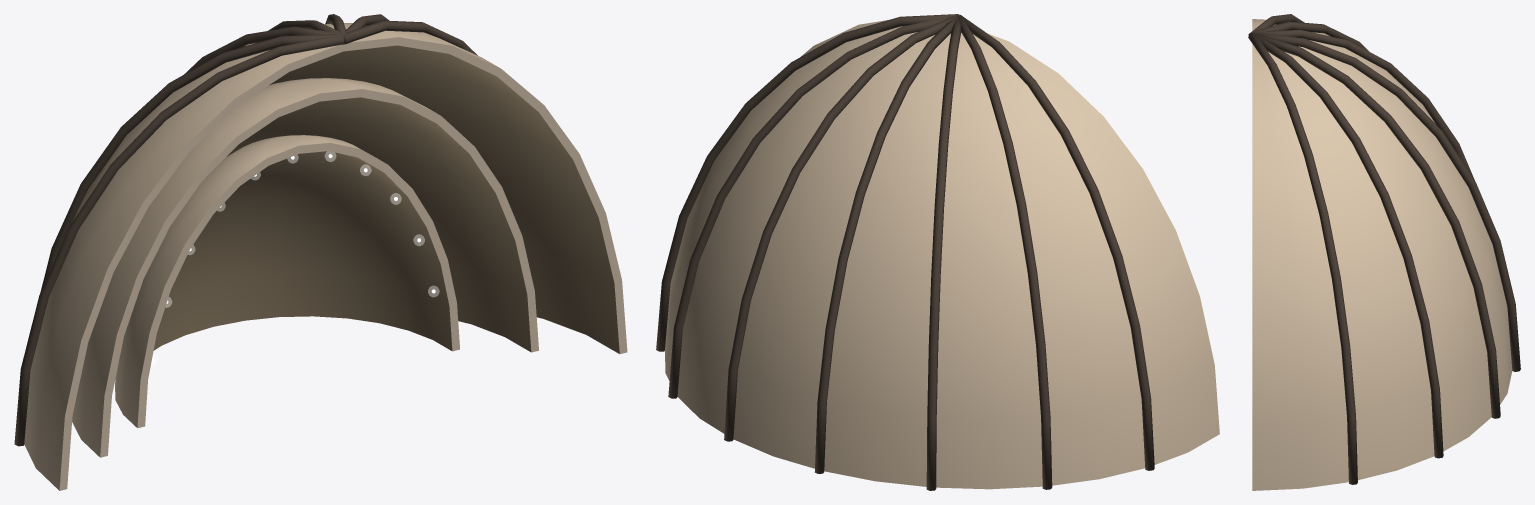
File: city_hall_shell.glb
The picture shows the model from 3 angles, left to right: view 1: azimuth 30°, elevation 25°; view 2: azimuth 150°, elevation 25°; view 3: azimuth 270°, elevation 25°; orthographic projection. The views are drawn at different scales.
Parts seen in each view (by area): view 1: CityHallShell_Shell2Inner, CityHallShell_Shell0Inner, CityHallShell_Shell1Inner, CityHallShell_Shell0, CityHallShell_Shell1, CityHallShell_Shell0Rim, CityHallShell_Shell2, CityHallShell_Shell1Rim, CityHallShell_Rib7, CityHallShell_Shell2Rim, CityHallShell_Rib6, CityHallShell_Rib1 (+1 smaller); view 2: CityHallShell_Shell0, CityHallShell_Rib7, CityHallShell_Rib3, CityHallShell_Rib6, CityHallShell_Rib4, CityHallShell_Rib5, CityHallShell_Rib2, CityHallShell_Rib1; view 3: CityHallShell_Shell0, CityHallShell_Rib3, CityHallShell_Rib2, CityHallShell_Rib1, CityHallShell_Rib4, CityHallShell_Rib5, CityHallShell_Rib6, CityHallShell_Rib7.
Part boxes in pixels (left/top/right/bottom): CityHallShell_Shell2Inner: left=153, top=151, right=452, bottom=350; CityHallShell_Shell0Inner: left=270, top=45, right=619, bottom=353; CityHallShell_Shell1Inner: left=226, top=97, right=531, bottom=351; CityHallShell_Shell0: left=24, top=23, right=499, bottom=490; CityHallShell_Shell1: left=72, top=78, right=438, bottom=457; CityHallShell_Shell0Rim: left=59, top=37, right=627, bottom=490; CityHallShell_Shell2: left=115, top=135, right=380, bottom=427; CityHallShell_Shell1Rim: left=100, top=89, right=538, bottom=457; CityHallShell_Rib7: left=14, top=35, right=344, bottom=446; CityHallShell_Shell2Rim: left=137, top=142, right=459, bottom=428; CityHallShell_Rib6: left=40, top=34, right=343, bottom=291; CityHallShell_Rib1: left=343, top=20, right=477, bottom=55; CityHallShell_Shell0: left=665, top=20, right=1219, bottom=489; CityHallShell_Rib7: left=959, top=14, right=1154, bottom=470; CityHallShell_Rib3: left=724, top=14, right=956, bottom=441; CityHallShell_Rib6: left=958, top=15, right=1052, bottom=489; CityHallShell_Rib4: left=814, top=15, right=959, bottom=473; CityHallShell_Rib5: left=926, top=15, right=961, bottom=490; CityHallShell_Rib2: left=668, top=14, right=957, bottom=398; CityHallShell_Rib1: left=656, top=14, right=958, bottom=351; CityHallShell_Shell0: left=1252, top=19, right=1512, bottom=490; CityHallShell_Rib3: left=1252, top=33, right=1500, bottom=418; CityHallShell_Rib2: left=1249, top=32, right=1443, bottom=458; CityHallShell_Rib1: left=1248, top=33, right=1357, bottom=484; CityHallShell_Rib4: left=1253, top=32, right=1520, bottom=371; CityHallShell_Rib5: left=1254, top=29, right=1474, bottom=180; CityHallShell_Rib6: left=1251, top=21, right=1368, bottom=51; CityHallShell_Rib7: left=1248, top=14, right=1304, bottom=35.
Size of the model in its own units: 22 by 14.34 by 10.49.
